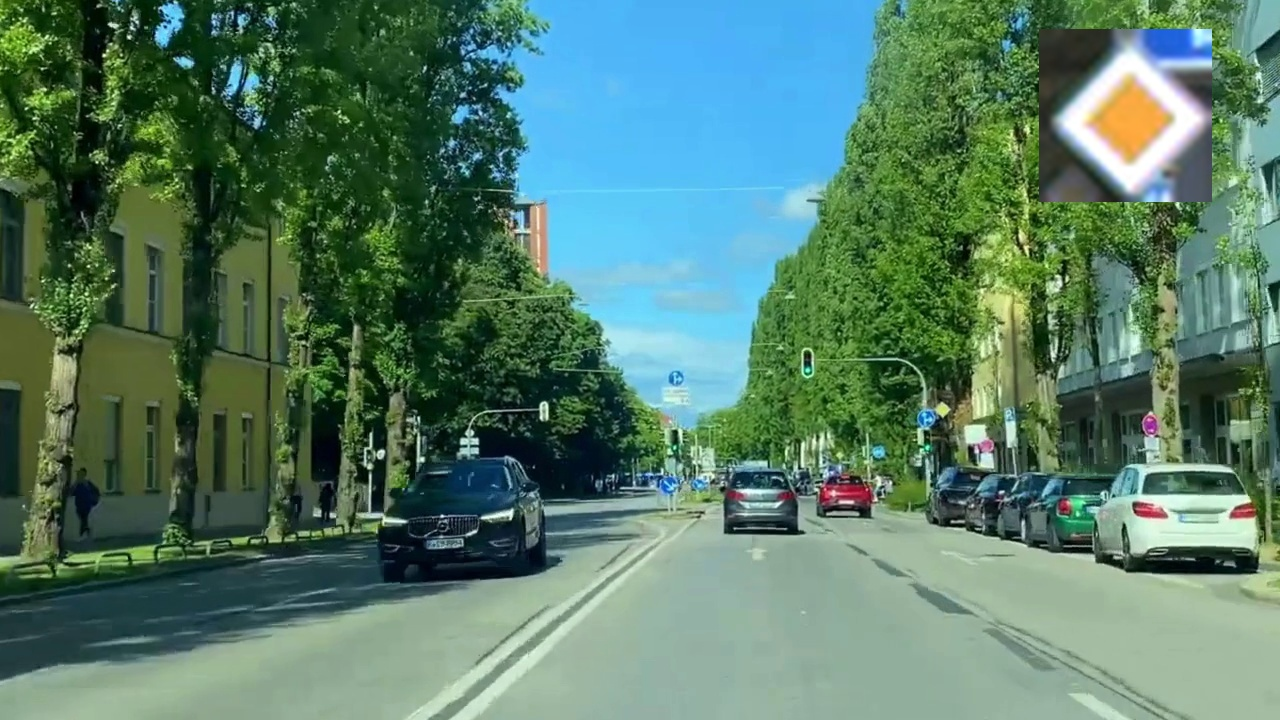Priority road: (1039, 29, 1212, 202)
